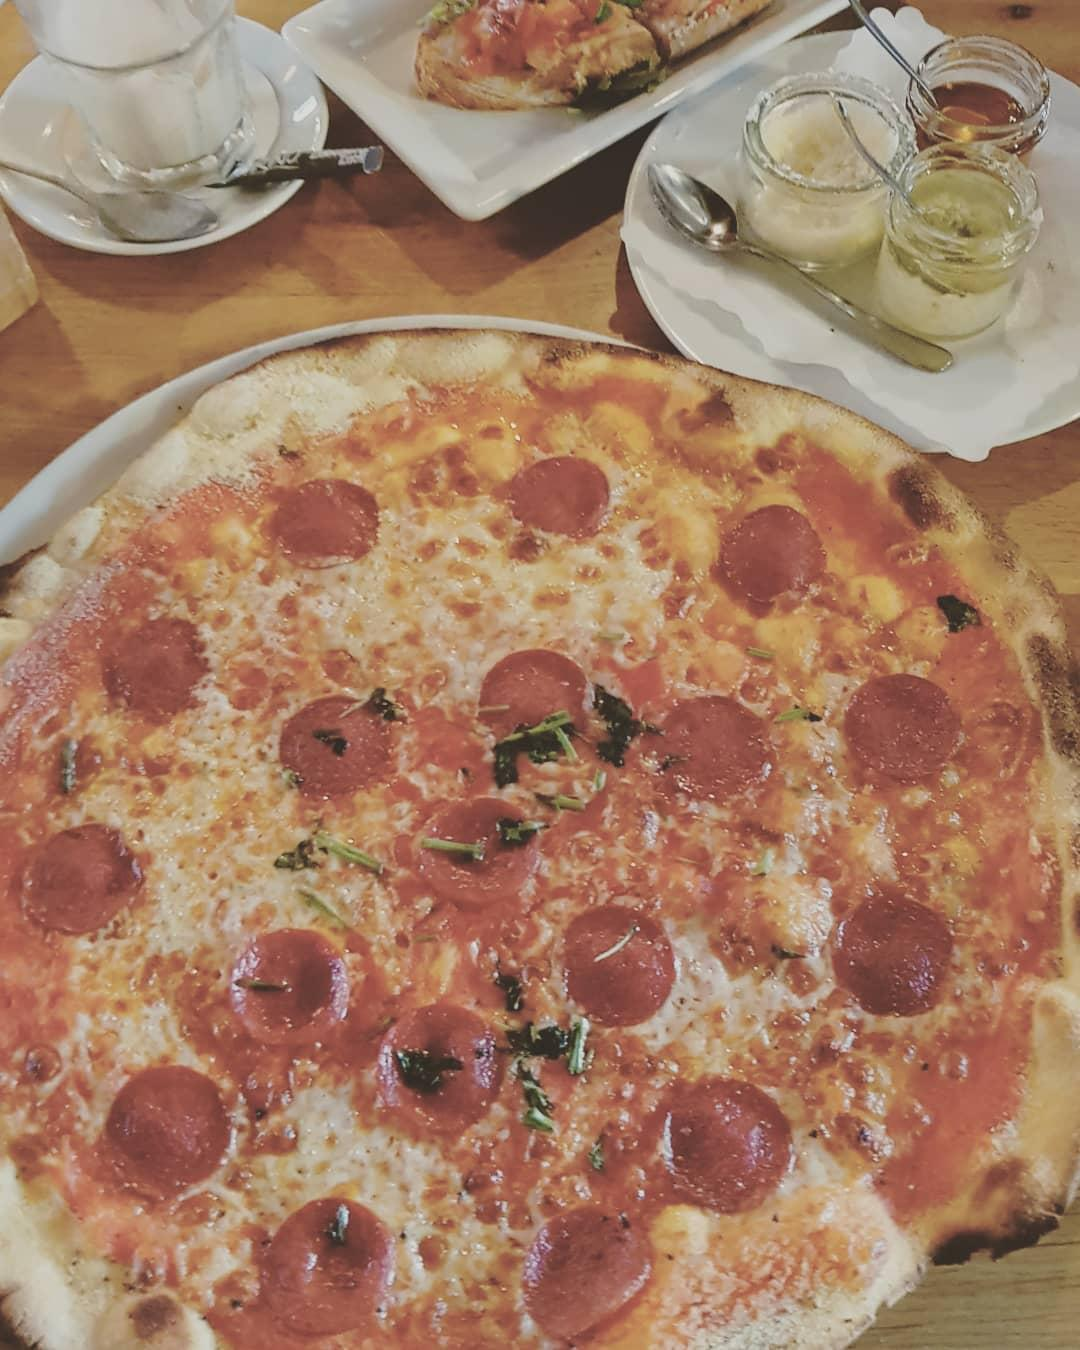Pepperoni: (267, 1199, 396, 1332), (104, 1067, 229, 1201), (663, 1083, 788, 1213), (833, 882, 948, 1020), (531, 1214, 656, 1335), (647, 698, 775, 802), (565, 907, 674, 1026), (239, 930, 353, 1041), (386, 1006, 493, 1124), (721, 503, 833, 607), (847, 672, 954, 779), (420, 800, 531, 900), (283, 699, 397, 791), (32, 828, 139, 926), (269, 477, 379, 563), (104, 617, 207, 706), (485, 652, 586, 739), (510, 453, 611, 536)
Pizza: (0, 330, 1080, 1350)
